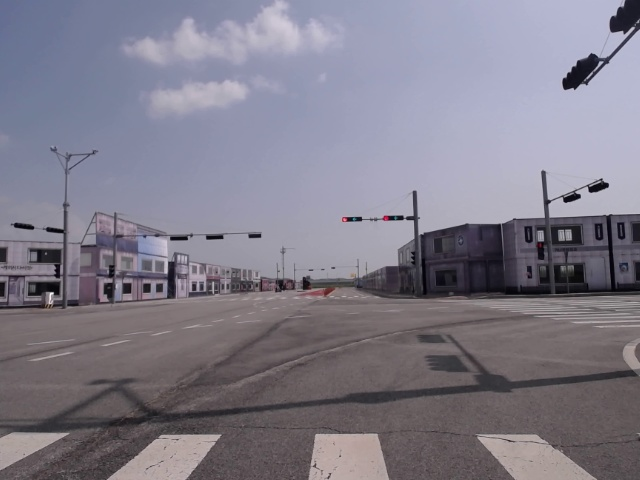left_green_4: (384, 215, 403, 221), (342, 217, 362, 221)
